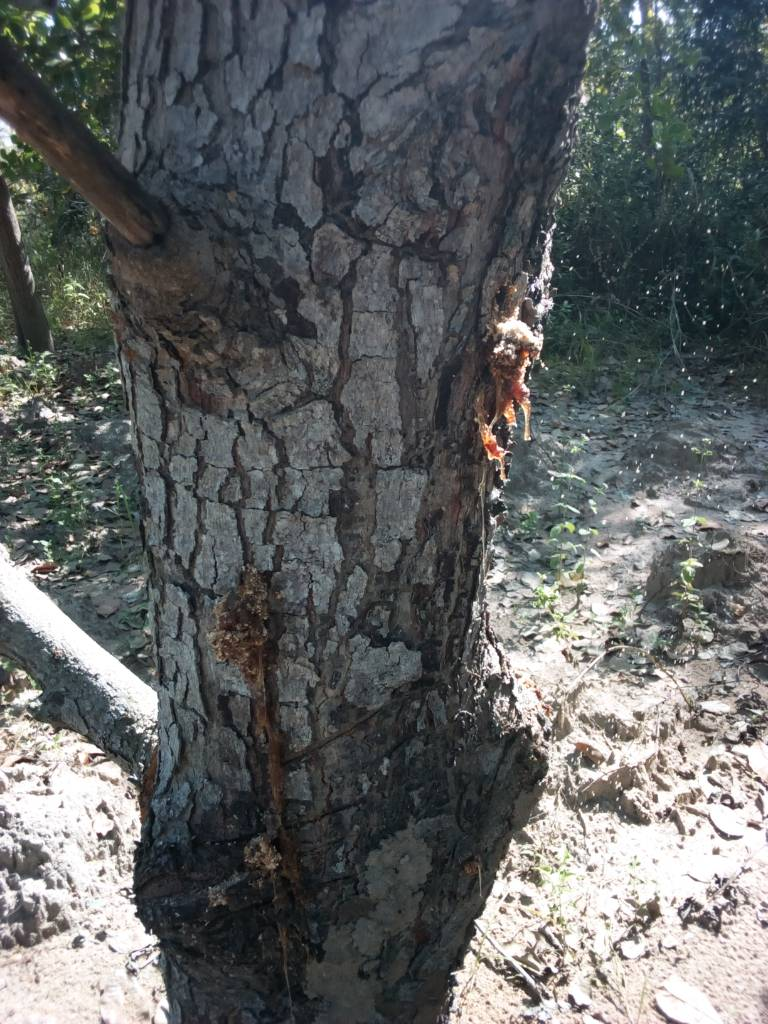Apate terebrans: (451, 241, 631, 496)
